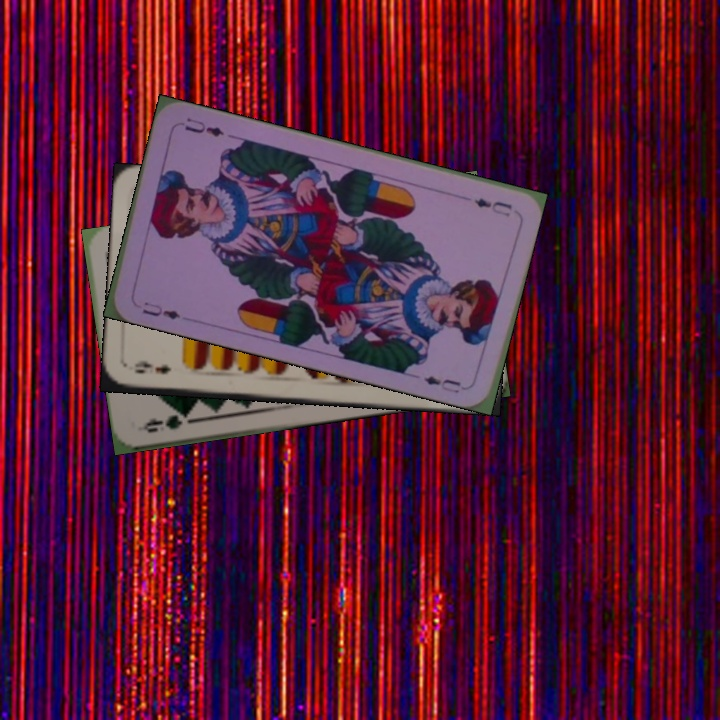E9: (130, 358, 174, 377)
EU: (470, 193, 515, 219), (138, 297, 183, 322)
G9: (135, 408, 195, 436)
